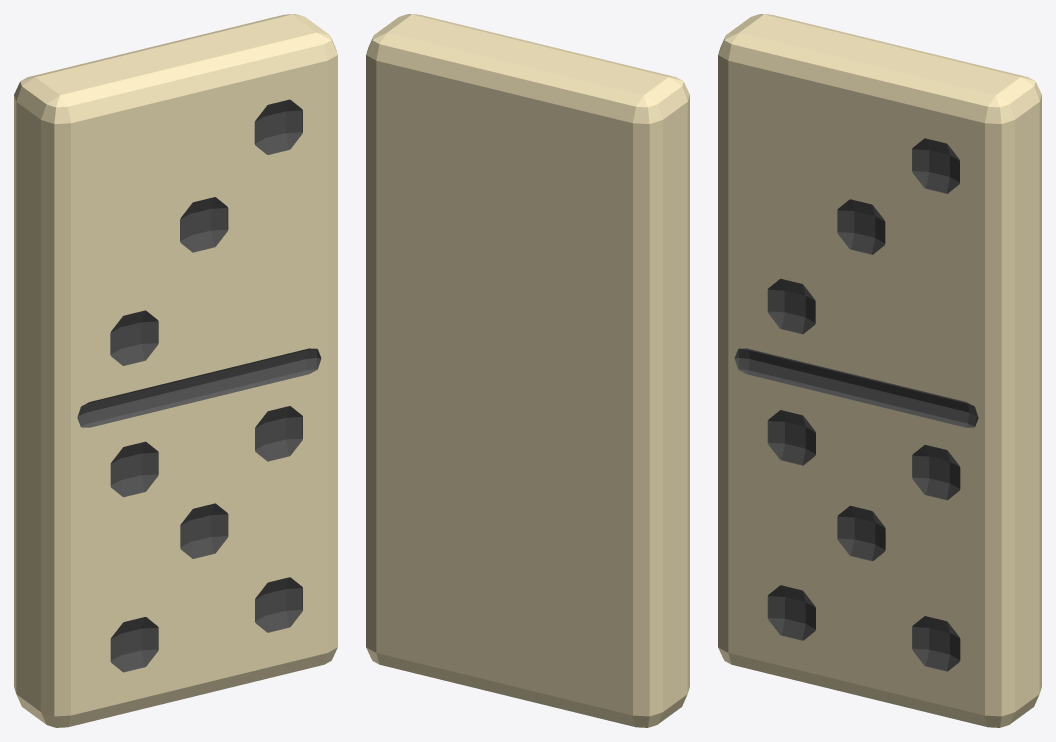
The model's file is dominoes 5x3.fbx.
3 renders of one model, left to right at view 1: azimuth 30°, elevation 25°; view 2: azimuth 150°, elevation 25°; view 3: azimuth 330°, elevation 25°, orthographic.
Visible parts, largest first — view 1: Boole_19; view 2: Boole_19; view 3: Boole_19.
Boxes of the visible parts, x1=… form: Boole_19: x1=14, y1=14, x2=337, y2=727; Boole_19: x1=366, y1=14, x2=689, y2=727; Boole_19: x1=718, y1=14, x2=1041, y2=727.
Bounding box in the file's own units: 200 × 410 × 55.02.
